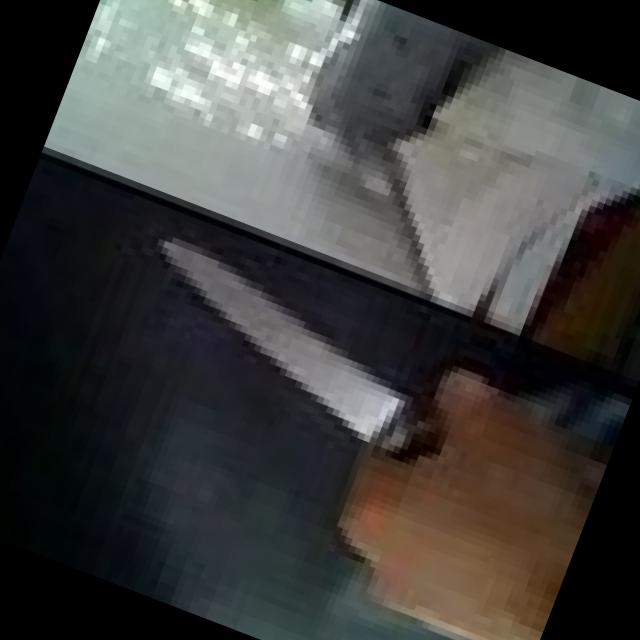knife: (68, 194, 488, 503)
